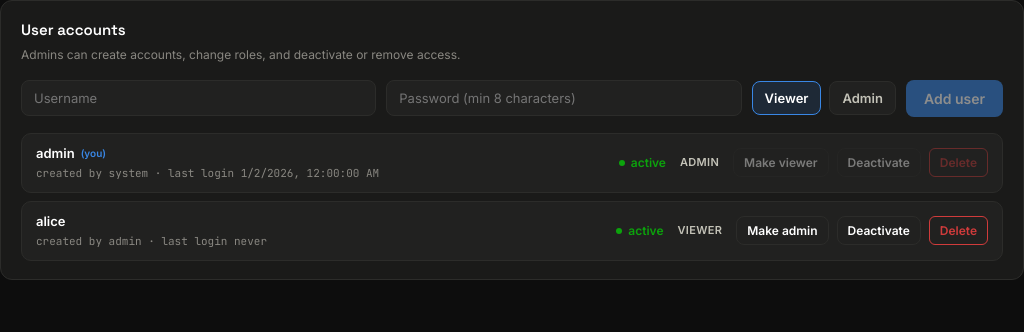
Test: UsersPanel › surfaces an error from a failed action
Expected: the text "alice" is shown, [36,212,66,228]
Click the button "Deactivate" in the row of "never": (879, 230) [837,216,921,245]
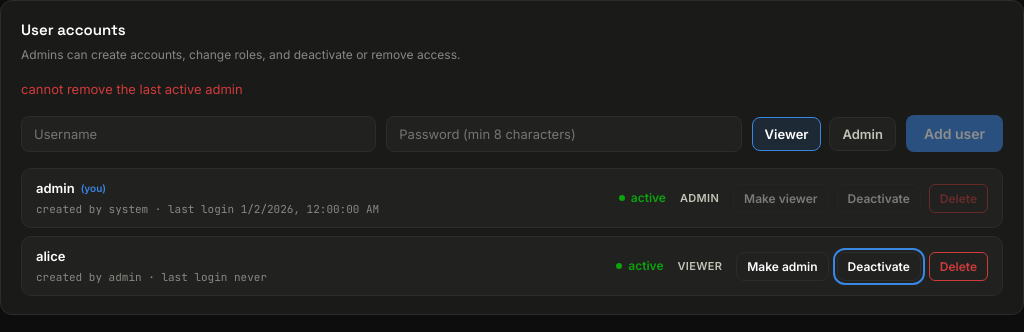
Result: the text "cannot remove the last active admin" is shown at [21,80,243,96]
